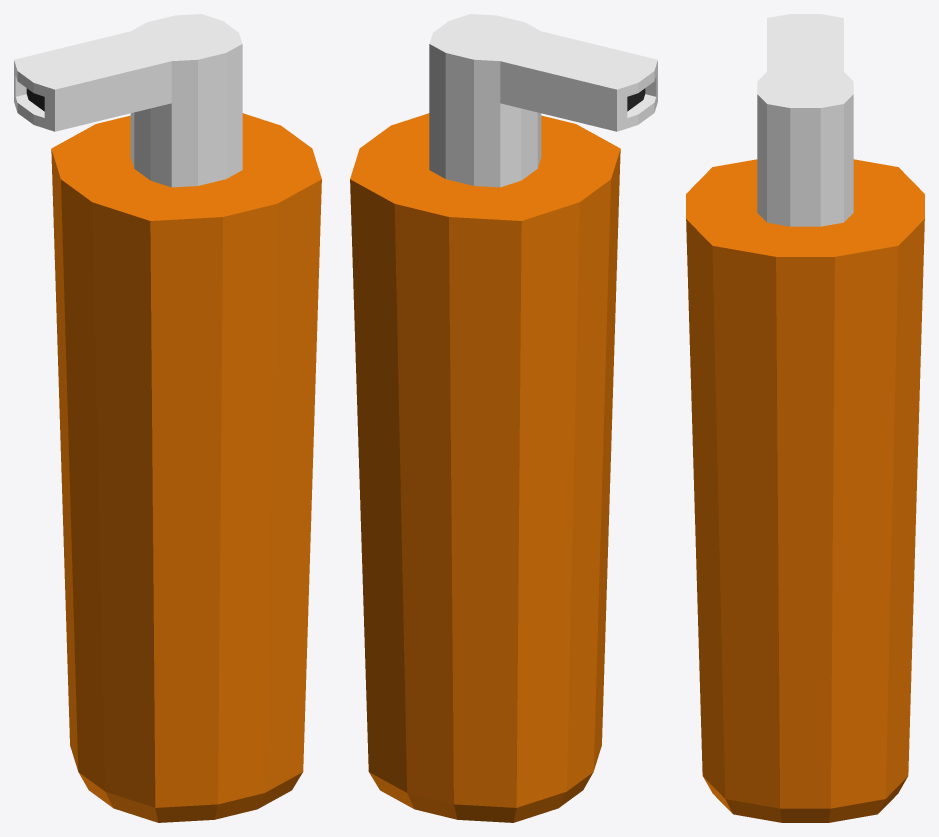
The model's file is Fluid Soap_10.fbx.
The picture shows the model from 3 angles, left to right: view 1: azimuth 30°, elevation 25°; view 2: azimuth 150°, elevation 25°; view 3: azimuth 270°, elevation 25°; orthographic projection. The views are drawn at different scales.
Parts seen in each view (by area): view 1: Fluid Soap_10; view 2: Fluid Soap_10; view 3: Fluid Soap_10.
Part boxes in pixels (x1,y1,x2,y2): Fluid Soap_10: [14, 14, 321, 822]; Fluid Soap_10: [350, 14, 657, 822]; Fluid Soap_10: [686, 14, 924, 822].
Bounding box in the file's own units: 0.0655 × 0.1728 × 0.0532.
